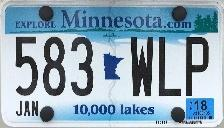3: (69, 36, 95, 98)
5: (13, 35, 42, 96)
8: (43, 35, 68, 97)
L: (157, 35, 182, 98)
P: (184, 35, 211, 98)
W: (128, 35, 156, 98)
